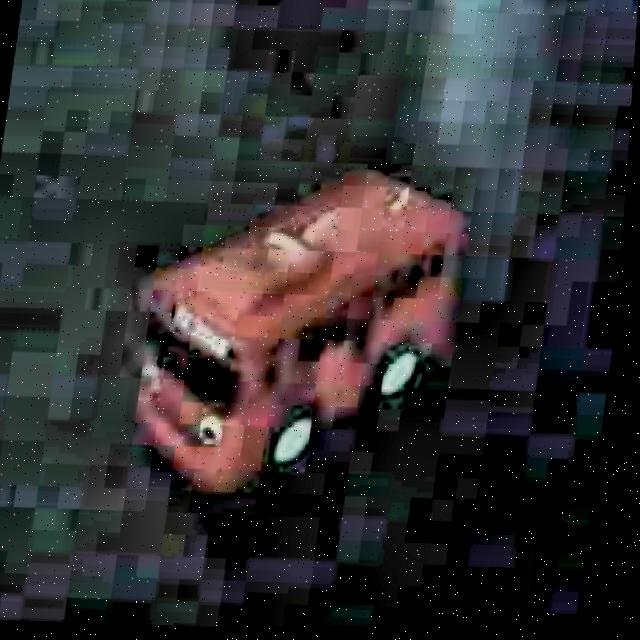bus: (100, 135, 490, 530)
